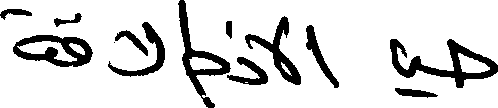ا: (304, 23, 338, 88)
ة: (0, 7, 55, 65)
ح: (445, 36, 496, 87)
ط: (180, 0, 229, 107)
ق: (61, 11, 91, 68)
لا: (107, 20, 163, 77), (264, 13, 299, 85)
ن: (235, 31, 265, 85)
ي: (388, 36, 420, 97)
